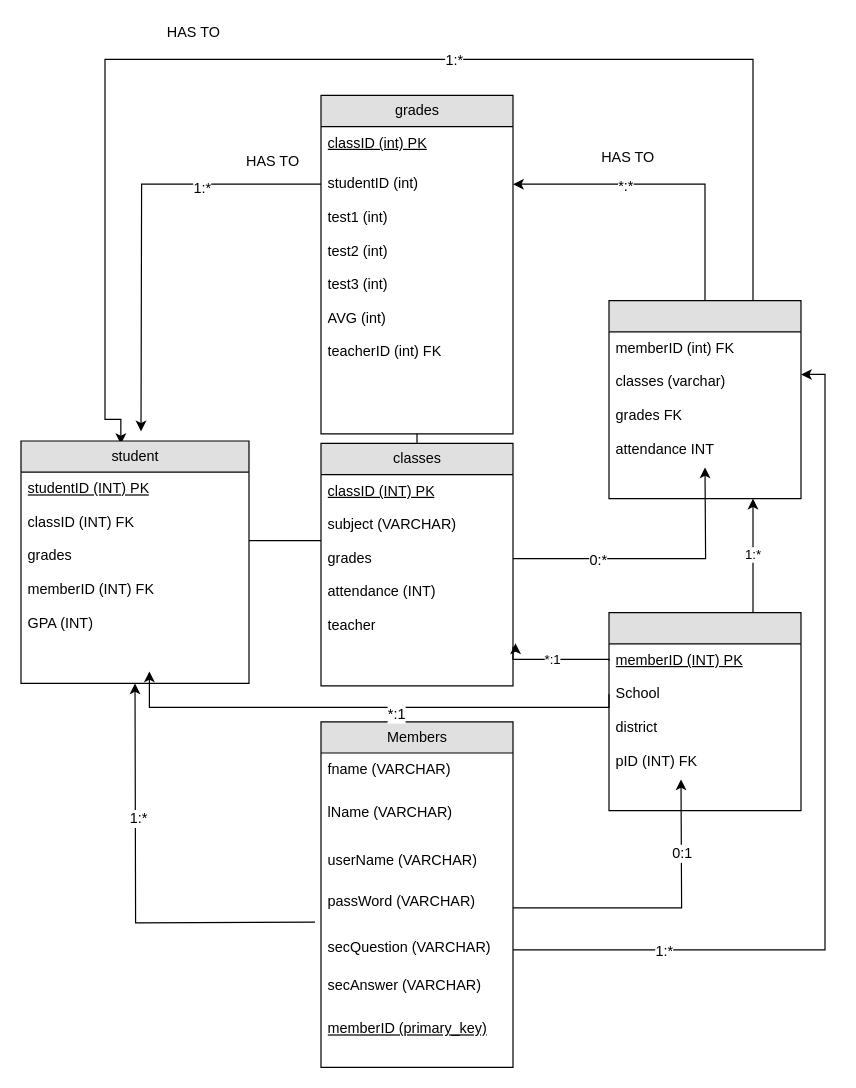
The diagram is 856 pixels wide and 1088 high, and some of its shapes have lost their labels. Each missing label, with the box of its shape:
Principals: (608, 611, 801, 811)
teachers: (608, 299, 801, 499)
